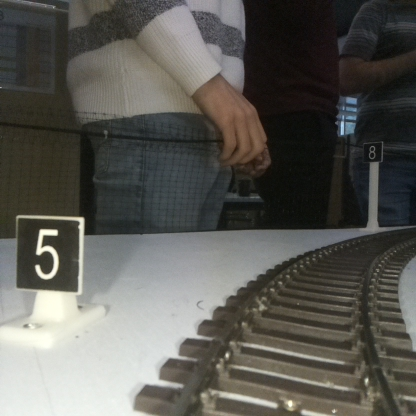black-info-8: (363, 141, 382, 227)
black-stop-5: (17, 219, 81, 337)
